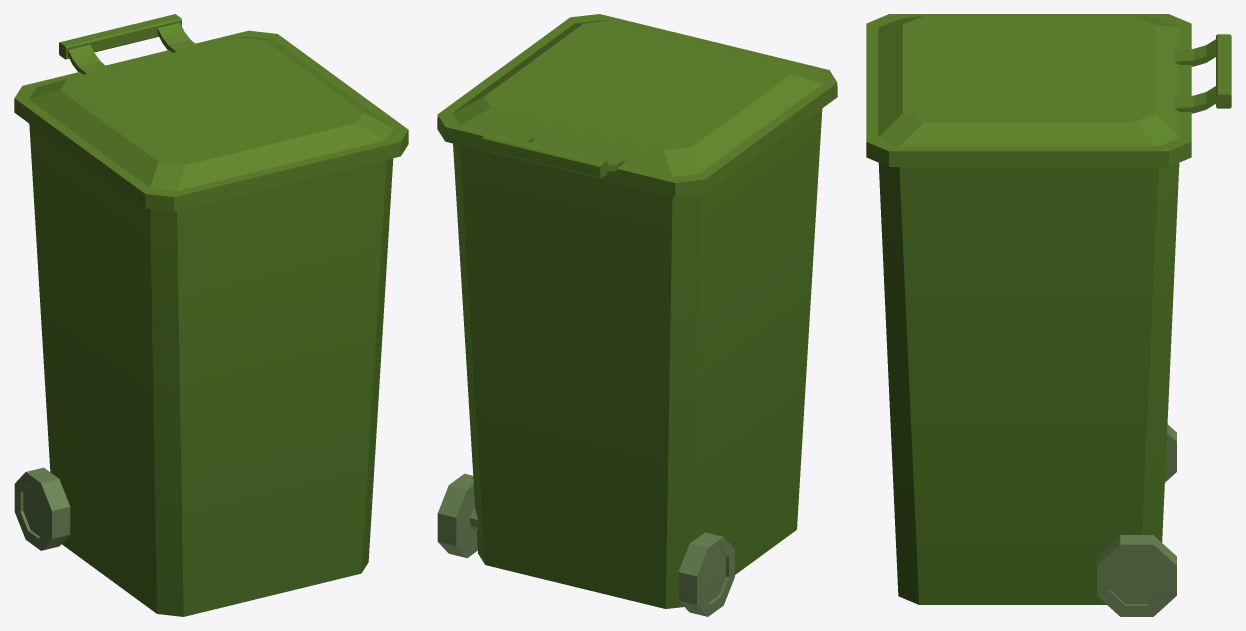
Rendered from Trash_05.fbx.
3 views of the same model, side by side, from view 1: azimuth 30°, elevation 25°; view 2: azimuth 150°, elevation 25°; view 3: azimuth 270°, elevation 25° (orthographic). The views are drawn at different scales.
Parts seen in each view (by area): view 1: Trash_05; view 2: Trash_05; view 3: Trash_05.
Boxes of the visible parts, x1,y1,x2,y2 form: Trash_05: [14, 14, 408, 616]; Trash_05: [437, 14, 837, 616]; Trash_05: [866, 14, 1231, 616].
Bounding box in the file's own units: 0.7173 × 1.18 × 0.8053.
